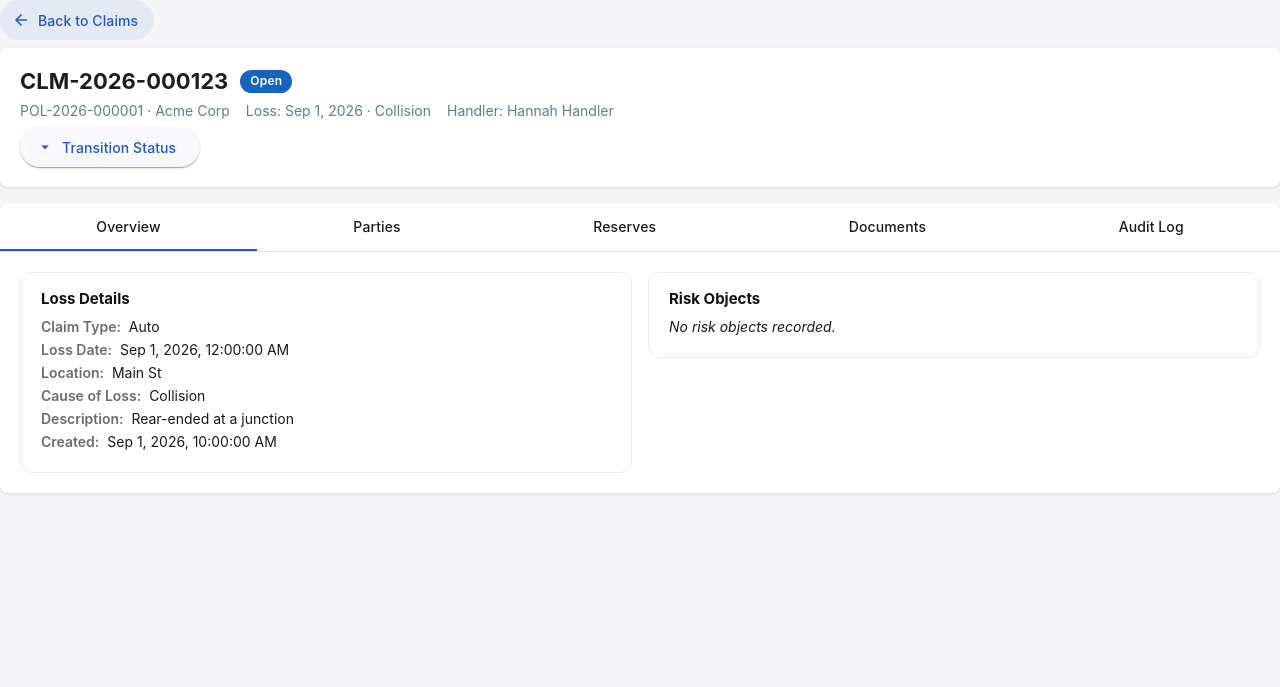
Test case: ClaimDetailComponent › reserve adjust panel › labels the amount as the new total, left empty (not prefilled), and requires a reason
The image size is (1280, 687).
Click the tab "Reserves" at (625, 226), box 593,218 -> 656,235
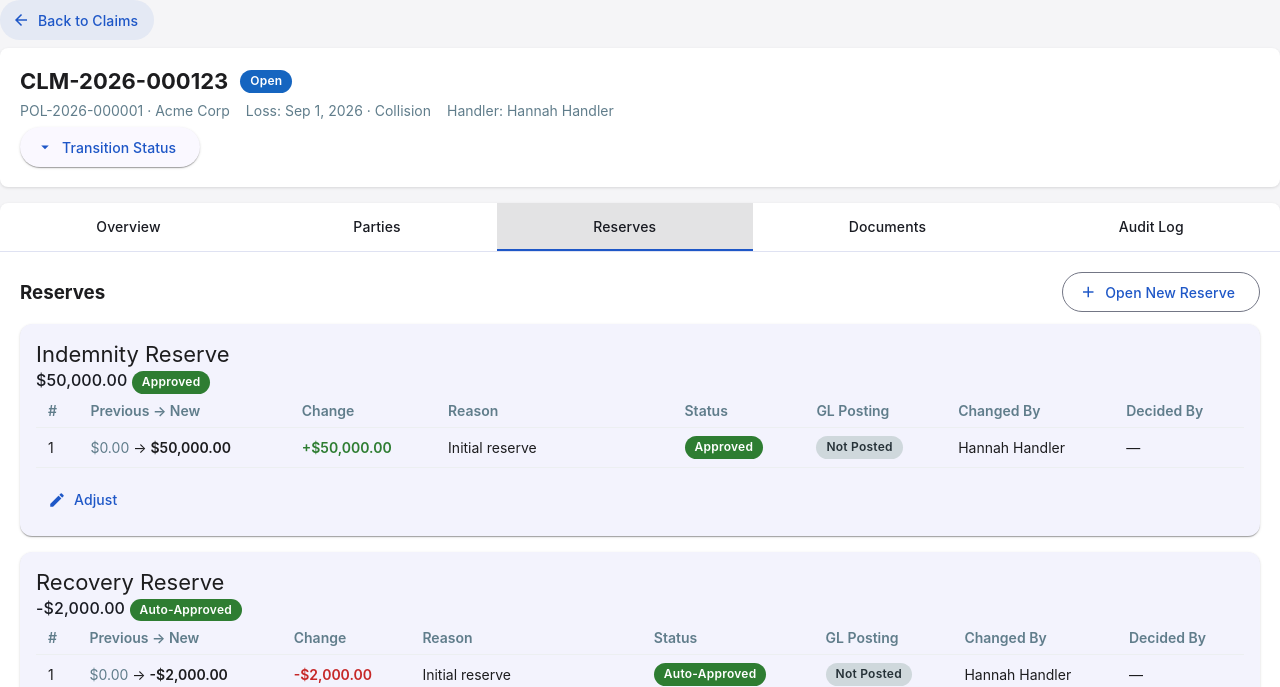
Click the button "MatButtonHarness" at (85, 500), box 36,480 -> 133,520
(page scrolled)
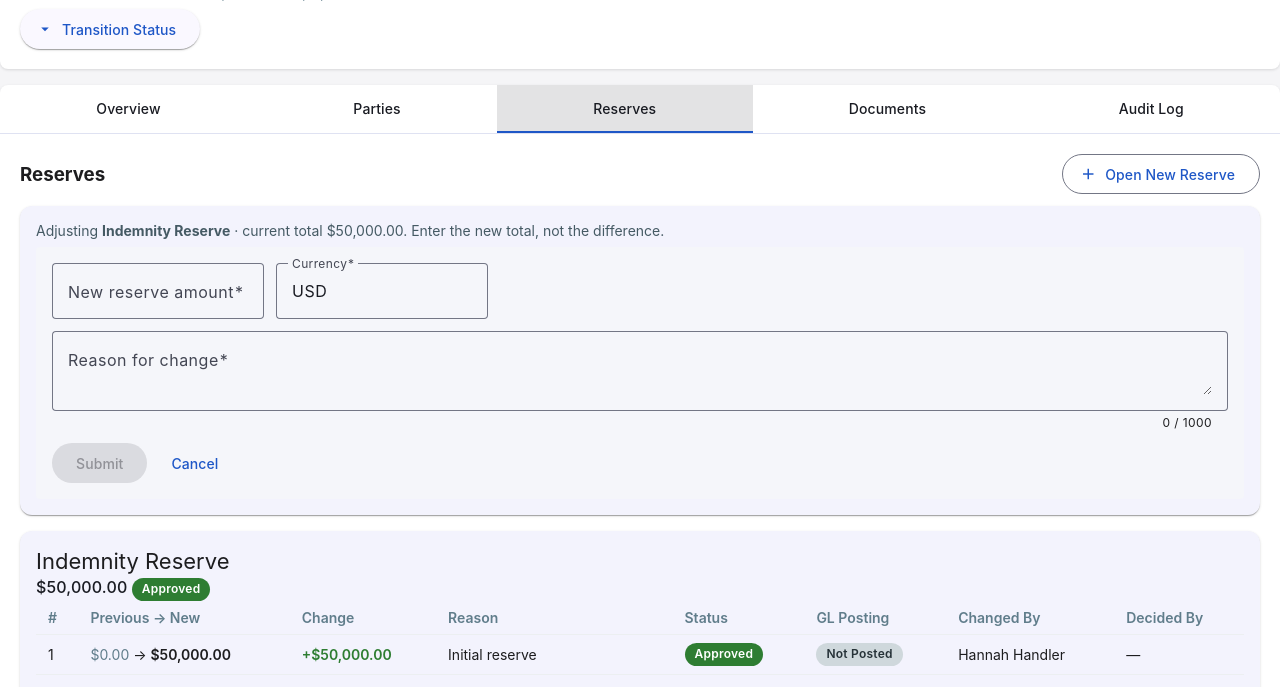
Check: the text "New reserve amount" is shown, box 68,282 -> 234,302
Check: the number field labelled "New reserve amount" is empty, box 68,279 -> 248,303
Check: the text "current total $50,000.00" is shown, box 230,222 -> 664,239
